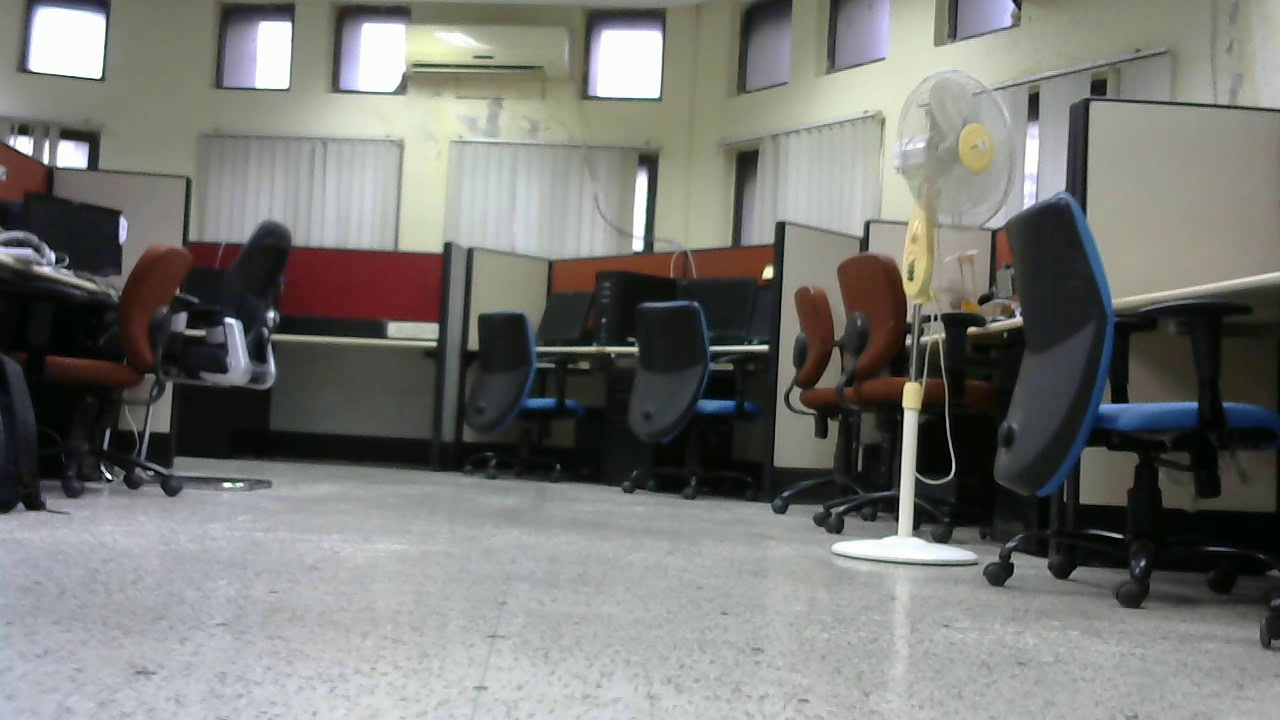chair: (975, 192, 1280, 608), (827, 247, 1008, 534), (169, 213, 303, 486), (52, 240, 188, 494), (772, 287, 912, 512), (614, 299, 767, 488), (441, 304, 589, 482)
